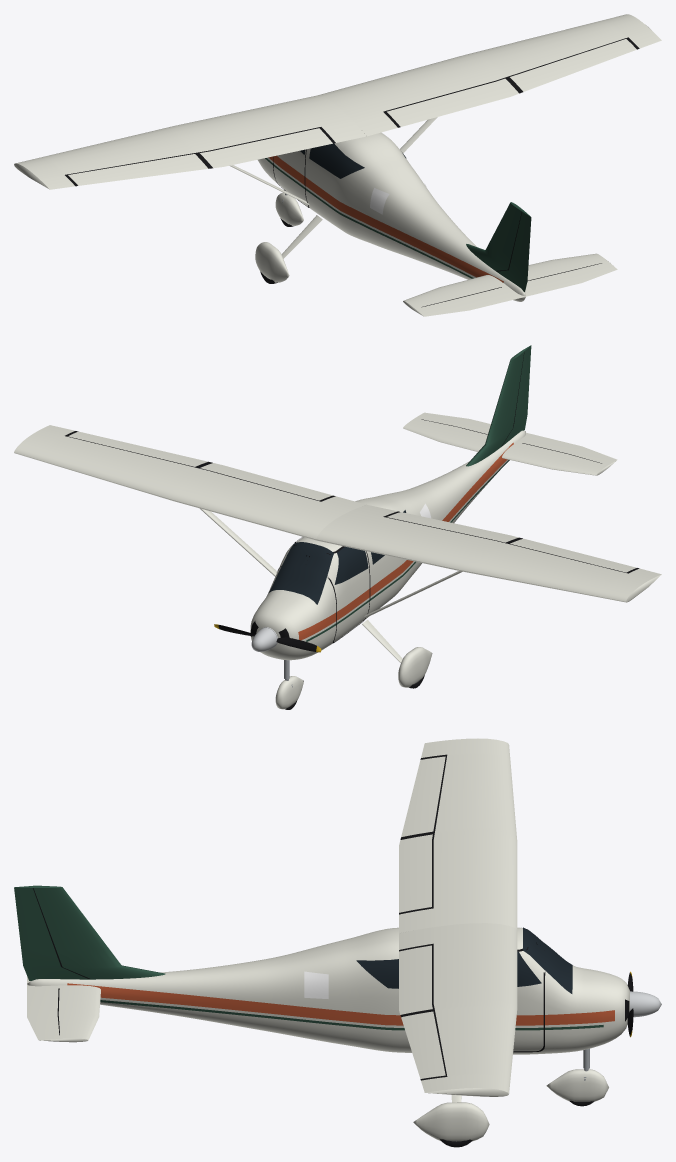
File: jaz-20.glb
3 renders of one model, top to bottom at view 1: azimuth 30°, elevation 25°; view 2: azimuth 150°, elevation 25°; view 3: azimuth 270°, elevation 25°, orthographic. The views are drawn at different scales.
Visible parts, largest first — view 1: ala, fuselaje, estabilizador, flap-dentro-derecha-piel, flap-dentro-izquierda-piel, aleron-derecha-piel, cintura, aleron-izquierda-piel, deriva, profundidad-izquierda-piel, profundidad-derecha-piel, ventanillas (+5 smaller); view 2: ala, fuselaje, estabilizador, parabrisas, deriva, cintura, flap-dentro-derecha-piel, aleron-derecha-piel, flap-dentro-izquierda-piel, aleron-izquierda-piel, ventanillas, rueda-polaina (+5 smaller); view 3: ala, fuselaje, deriva, cintura, estabilizador, flap-dentro-izquierda-piel, timon-de-direccion-piel, rueda-polaina, aleron-izquierda-piel, flap-dentro-derecha-piel, aleron-derecha-piel, rueda-de-morro-polaina (+6 smaller).
Part boxes in pixels (<box>): ala: <box>14,14,661,189</box>; fuselaje: <box>257,132,525,301</box>; estabilizador: <box>403,253,617,316</box>; flap-dentro-derecha-piel: <box>387,78,518,126</box>; flap-dentro-izquierda-piel: <box>200,128,332,168</box>; aleron-derecha-piel: <box>510,39,636,91</box>; cintura: <box>268,155,503,282</box>; aleron-izquierda-piel: <box>68,154,208,185</box>; deriva: <box>466,202,530,292</box>; profundidad-izquierda-piel: <box>422,287,515,315</box>; profundidad-derecha-piel: <box>526,263,611,294</box>; ventanillas: <box>300,143,406,178</box>; ala: <box>14,425,661,602</box>; fuselaje: <box>250,430,525,660</box>; estabilizador: <box>403,412,617,475</box>; parabrisas: <box>269,542,333,604</box>; deriva: <box>466,345,530,466</box>; cintura: <box>298,442,513,640</box>; flap-dentro-derecha-piel: <box>200,463,332,500</box>; aleron-derecha-piel: <box>68,431,207,466</box>; flap-dentro-izquierda-piel: <box>387,512,518,542</box>; aleron-izquierda-piel: <box>510,538,636,572</box>; ventanillas: <box>334,510,406,584</box>; rueda-polaina: <box>260,647,432,687</box>; ala: <box>399,738,517,1096</box>; fuselaje: <box>27,927,629,1054</box>; deriva: <box>15,885,165,980</box>; cintura: <box>67,983,614,1025</box>; estabilizador: <box>27,979,100,1042</box>; flap-dentro-izquierda-piel: <box>399,834,432,912</box>; timon-de-direccion-piel: <box>14,887,60,967</box>; rueda-polaina: <box>413,1102,489,1141</box>; aleron-izquierda-piel: <box>401,756,445,837</box>; flap-dentro-derecha-piel: <box>399,945,432,1014</box>; aleron-derecha-piel: <box>401,1011,445,1078</box>; rueda-de-morro-polaina: <box>546,1069,608,1101</box>.
Bounding box in the file's own units: 11 × 3.18 × 8.52.
